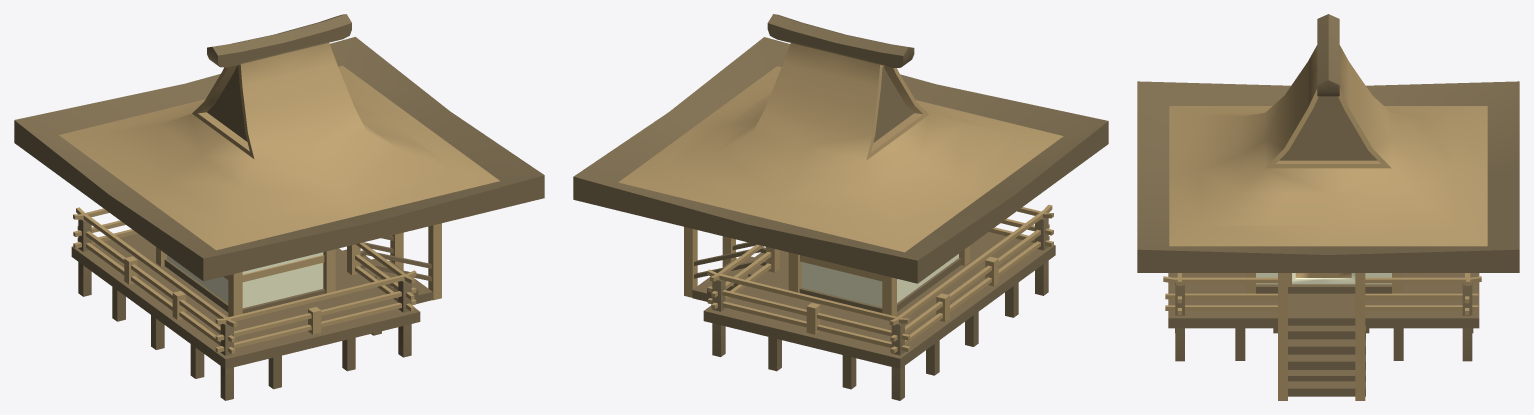
Rendered from JapaneseHouse_7.fbx.
The picture shows the model from 3 angles, left to right: view 1: azimuth 30°, elevation 25°; view 2: azimuth 150°, elevation 25°; view 3: azimuth 270°, elevation 25°; orthographic projection.
Parts seen in each view (by area): view 1: JapaneseHouse 7; view 2: JapaneseHouse 7; view 3: JapaneseHouse 7.
Boxes of the visible parts, x1,y1,x2,y2 form: JapaneseHouse 7: (14, 14, 544, 400); JapaneseHouse 7: (573, 14, 1108, 400); JapaneseHouse 7: (1137, 14, 1519, 400).
Size of the model in its own units: 646 by 513 by 621.
